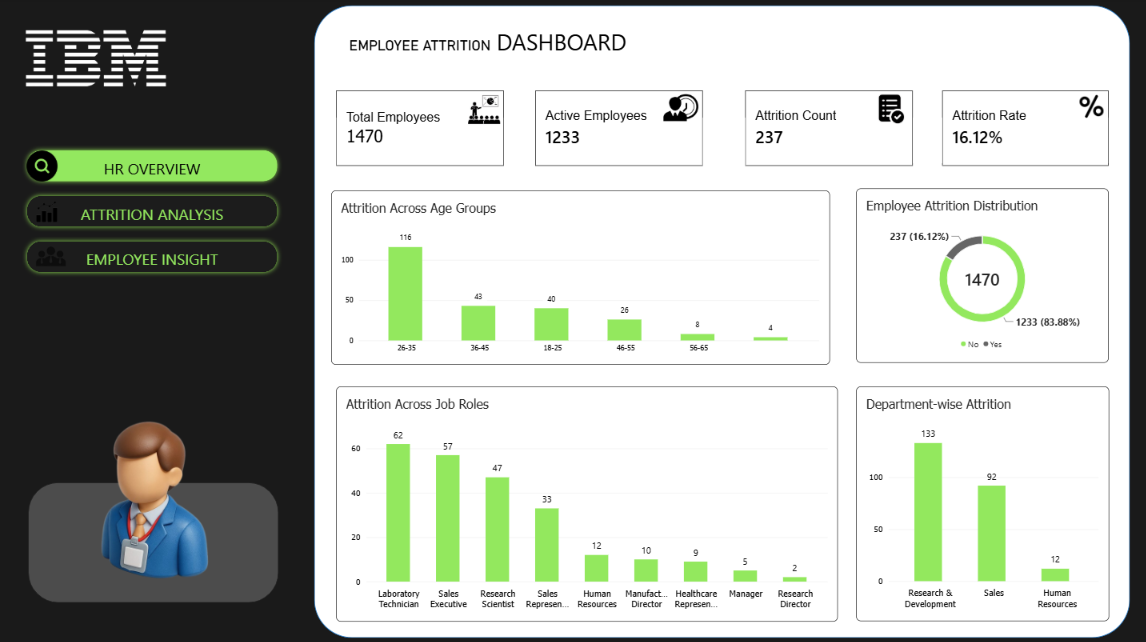

Layout of this report page (visuals, bound fields, positions):
{"tool":"powerbi","page":{"name":"HR OVERVIEW","canvas":[1920,1080],"ordinal":0},"visuals":[{"type":"shape","box":[526,12,1362,1056],"z":0},{"type":"textbox","box":[584.4,46.8,689.6,53.4],"z":1000},{"type":"clusteredColumnChart","title":"Department-wise Attrition","fields":{"Category":["HR_Employee_Attrition_Final.Department"],"Y":["HR_Employee_Attrition_Final.Attrition Count"]},"box":[1431.4,647.9,422,392],"z":2000},{"type":"lineStackedColumnComboChart","title":"Attrition Across Age Groups","fields":{"Category":["HR_Employee_Attrition_Final.Age_Group"],"Y":["HR_Employee_Attrition_Final.Attrition Count"]},"box":[553.8,320.3,832.4,291.4],"z":4000},{"type":"clusteredColumnChart","title":"Attrition Across Job Roles","fields":{"Category":["HR_Employee_Attrition_Final.Job Role"],"Y":["HR_Employee_Attrition_Final.Attrition Count"]},"box":[562.8,647.9,837.9,392.7],"z":5000},{"type":"image","box":[0,0,322,200],"z":6000},{"type":"pageNavigator","box":[38,246.1,434.3,220.8],"z":7000},{"type":"cardVisual","title":"TOTAL EMPLOYEE","fields":{"Data":["HR_Employee_Attrition_Final.Total Employees"]},"box":[562.8,153.8,280,126],"z":8000},{"type":"cardVisual","fields":{"Data":["HR_Employee_Attrition_Final.Active Employees"]},"box":[895.8,153.8,280,126],"z":9000},{"type":"cardVisual","fields":{"Data":["HR_Employee_Attrition_Final.Attrition Count"]},"box":[1246,154,280,126],"z":10000},{"type":"cardVisual","fields":{"Data":["HR_Employee_Attrition_Final.Attrition Rate"]},"box":[1574.4,153.8,278,126],"z":11000},{"type":"image","box":[1100,154,76,57.9],"z":12000},{"type":"image","box":[780,158,60,54],"z":13000},{"type":"donutChart","title":"Employee Attrition Distribution","fields":{"Category":["HR_Employee_Attrition_Final.Attrition"],"Y":["HR_Employee_Attrition_Final.Employee Count"]},"box":[1431.4,316.7,421.7,291.4],"z":14000},{"type":"image","box":[38.4,253.8,66.8,51.8],"z":15000},{"type":"image","box":[36.2,363.7,99.5,133.9],"z":16000},{"type":"image","box":[54.3,316.7,48.9,77.8],"z":17000},{"type":"image","box":[1800,160,48,40],"z":18000},{"type":"image","box":[1452,158,74,52],"z":19000},{"type":"shape","box":[48.9,808.9,418,200.9],"z":19001},{"type":"image","box":[101.9,669.6,305.8,338.4],"z":19002}]}

Visuals, with their boxes in screenshot pixels (x1, y1, x2, y2), scaled from the page's 1920x1080 canvas onto the 1146x642 screenshot:
shape: detection(314, 7, 1127, 635)
textbox: detection(349, 28, 760, 60)
"Department-wise Attrition" clusteredColumnChart: detection(854, 385, 1106, 618)
"Attrition Across Age Groups" lineStackedColumnComboChart: detection(331, 190, 827, 364)
"Attrition Across Job Roles" clusteredColumnChart: detection(336, 385, 836, 619)
image: detection(0, 0, 192, 119)
pageNavigator: detection(23, 146, 282, 278)
"TOTAL EMPLOYEE" cardVisual: detection(336, 91, 503, 166)
cardVisual - HR_Employee_Attrition_Final.Active Employees: detection(535, 91, 702, 166)
cardVisual - HR_Employee_Attrition_Final.Attrition Count: detection(744, 92, 911, 166)
cardVisual - HR_Employee_Attrition_Final.Attrition Rate: detection(940, 91, 1106, 166)
image: detection(657, 92, 702, 126)
image: detection(466, 94, 501, 126)
"Employee Attrition Distribution" donutChart: detection(854, 188, 1106, 361)
image: detection(23, 151, 63, 182)
image: detection(22, 216, 81, 296)
image: detection(32, 188, 62, 235)
image: detection(1074, 95, 1103, 119)
image: detection(867, 94, 911, 125)
shape: detection(29, 481, 279, 600)
image: detection(61, 398, 243, 599)
